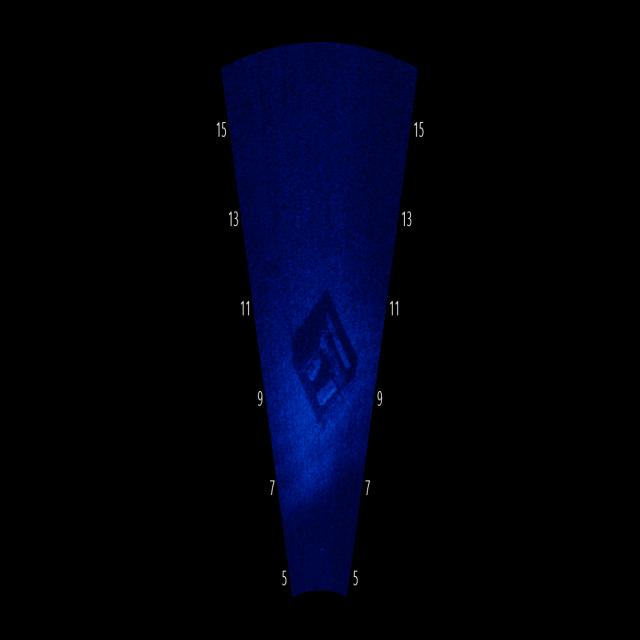square: (280, 256, 369, 456)
